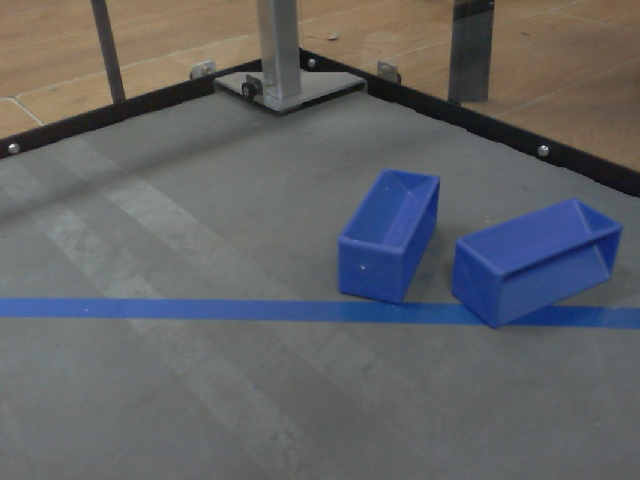BlueSample: (450, 196, 624, 334), (336, 168, 446, 309)
